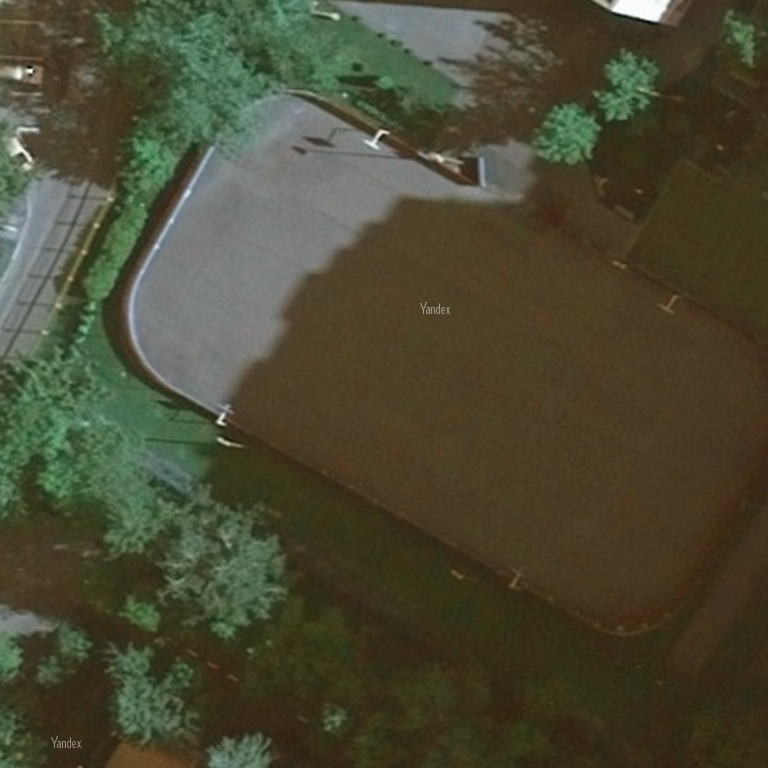basket_court: (420, 239, 753, 634), (141, 89, 477, 475)
